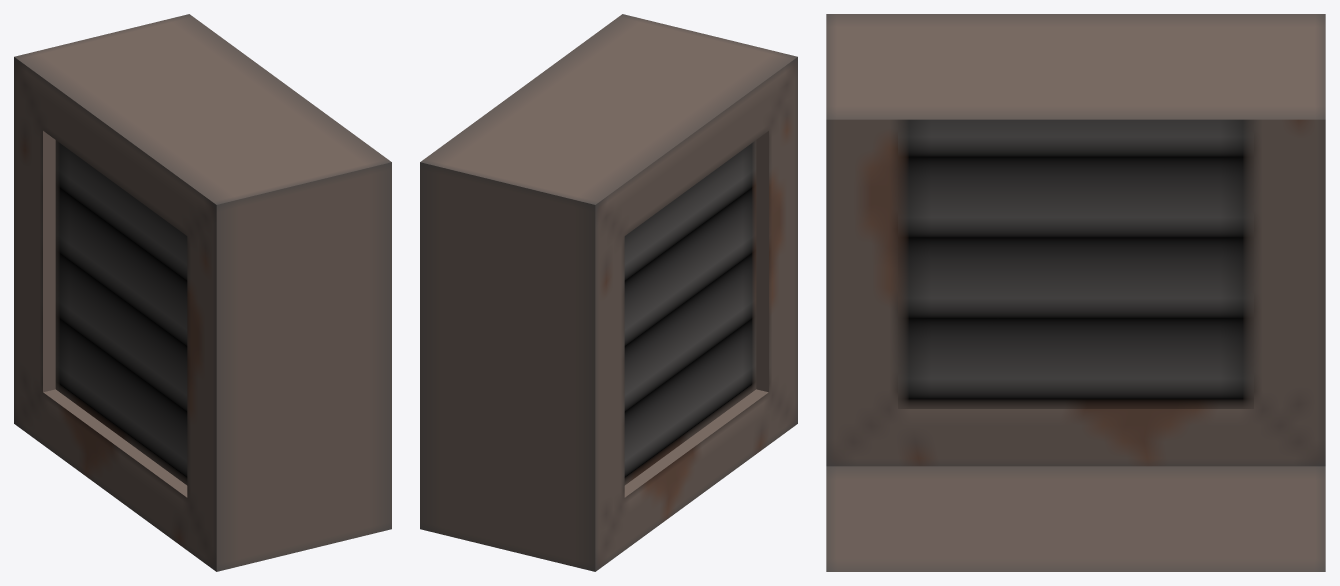
The model's file is obj_powerFuseBox.fbx.
3 views of the same model, side by side, from view 1: azimuth 30°, elevation 25°; view 2: azimuth 150°, elevation 25°; view 3: azimuth 270°, elevation 25° (orthographic). The views are drawn at different scales.
Parts seen in each view (by area): view 1: obj_airDiffuser; view 2: obj_airDiffuser; view 3: obj_airDiffuser.
Part boxes in pixels (bbox=[...]): obj_airDiffuser: bbox=[14, 14, 391, 571]; obj_airDiffuser: bbox=[420, 14, 797, 571]; obj_airDiffuser: bbox=[826, 14, 1325, 571].
Bounding box in the file's own units: 15 × 30 × 30.
